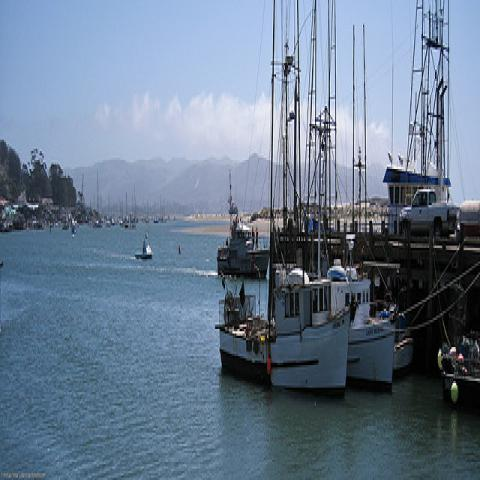truck: (399, 190, 457, 244)
